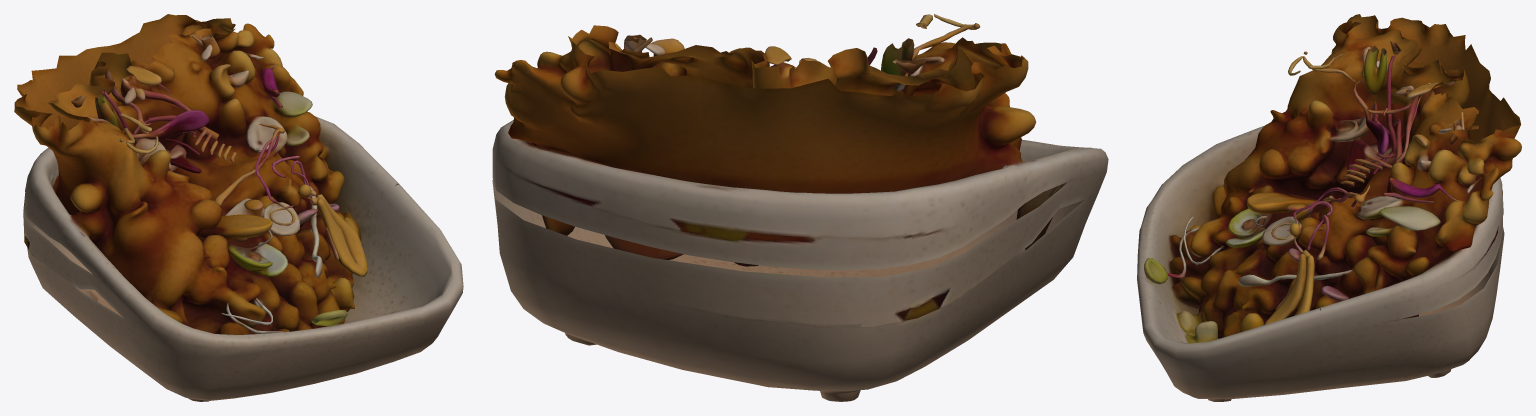
Rendered from crispy-pork-ribs.glb.
3 renders of one model, left to right at view 1: azimuth 30°, elevation 25°; view 2: azimuth 150°, elevation 25°; view 3: azimuth 270°, elevation 25°, orthographic. The views are drawn at different scales.
Parts seen in each view (by area): view 1: tripo_node_278c5c5c-d4af-41bc-bc59-02ed427a9170; view 2: tripo_node_278c5c5c-d4af-41bc-bc59-02ed427a9170; view 3: tripo_node_278c5c5c-d4af-41bc-bc59-02ed427a9170.
Part boxes in pixels (x1=…): tripo_node_278c5c5c-d4af-41bc-bc59-02ed427a9170: x1=14, y1=14, x2=463, y2=401; tripo_node_278c5c5c-d4af-41bc-bc59-02ed427a9170: x1=492, y1=14, x2=1108, y2=401; tripo_node_278c5c5c-d4af-41bc-bc59-02ed427a9170: x1=1137, y1=14, x2=1521, y2=401.
Size of the model in its own units: 0.2 by 0.1393 by 0.1898.
1 material, 1 textured.
